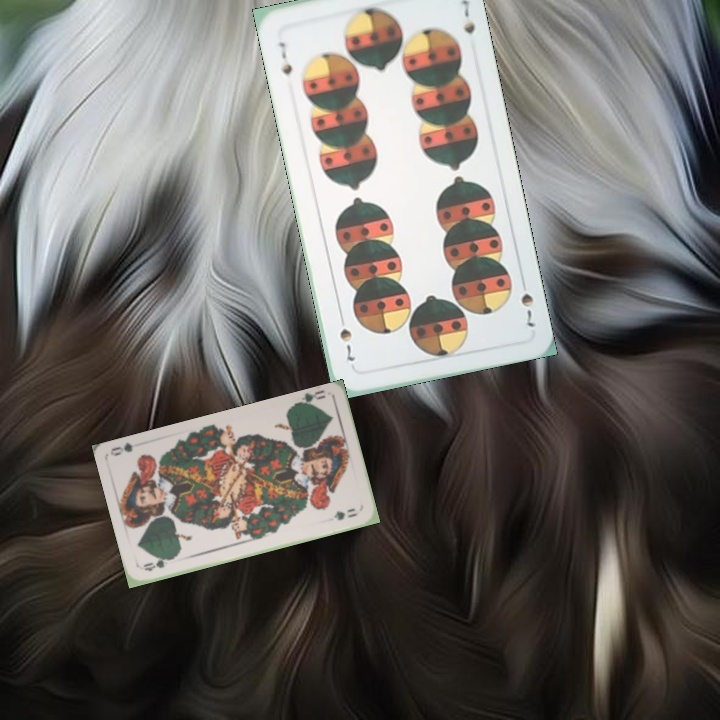GO: (139, 552, 178, 574), (291, 387, 328, 410)
S7: (517, 274, 539, 330), (274, 38, 295, 81)
